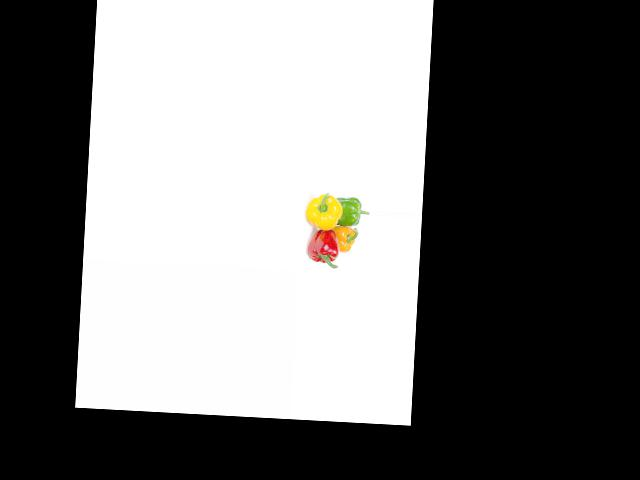bell_pepper: (303, 189, 343, 232)
